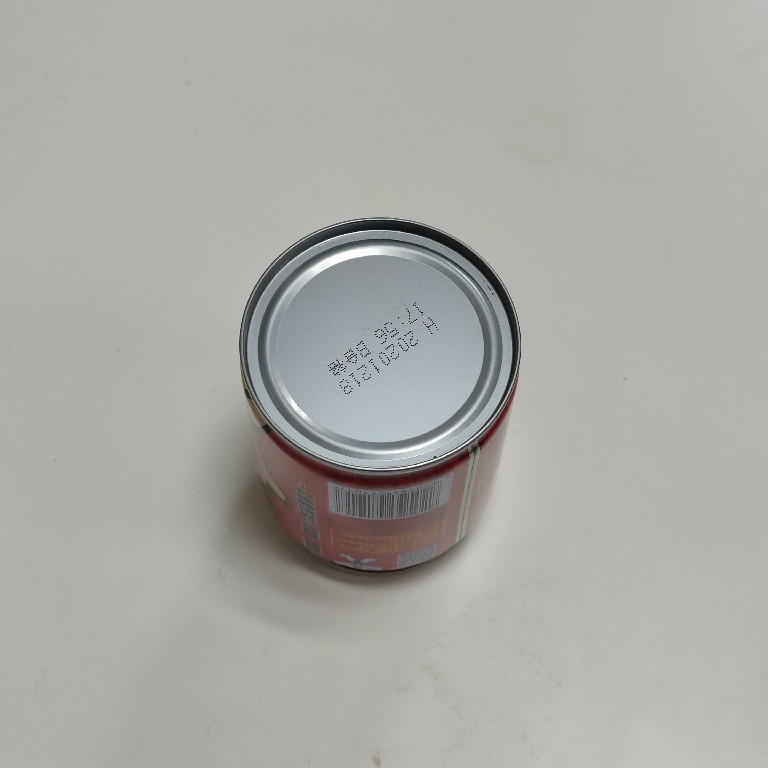can: (236, 213, 522, 581)
